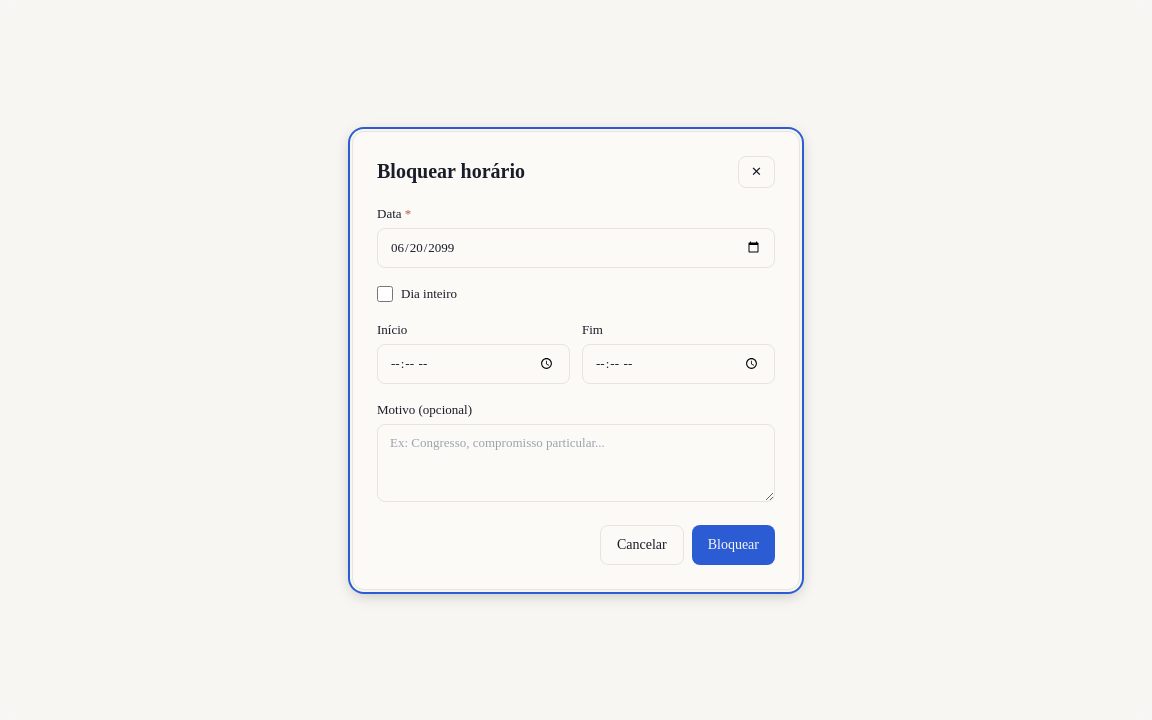
BlockTimeDialog (integration) › disables startTime and endTime when "Dia inteiro" is checked
The width and height of the screenshot is (1152, 720).
What coordinates should you click on to do the following:
click the checkbox with test id "block-dialog-all-day"
I would click on:
 (385, 294)
Its box is [377,286,393,302].
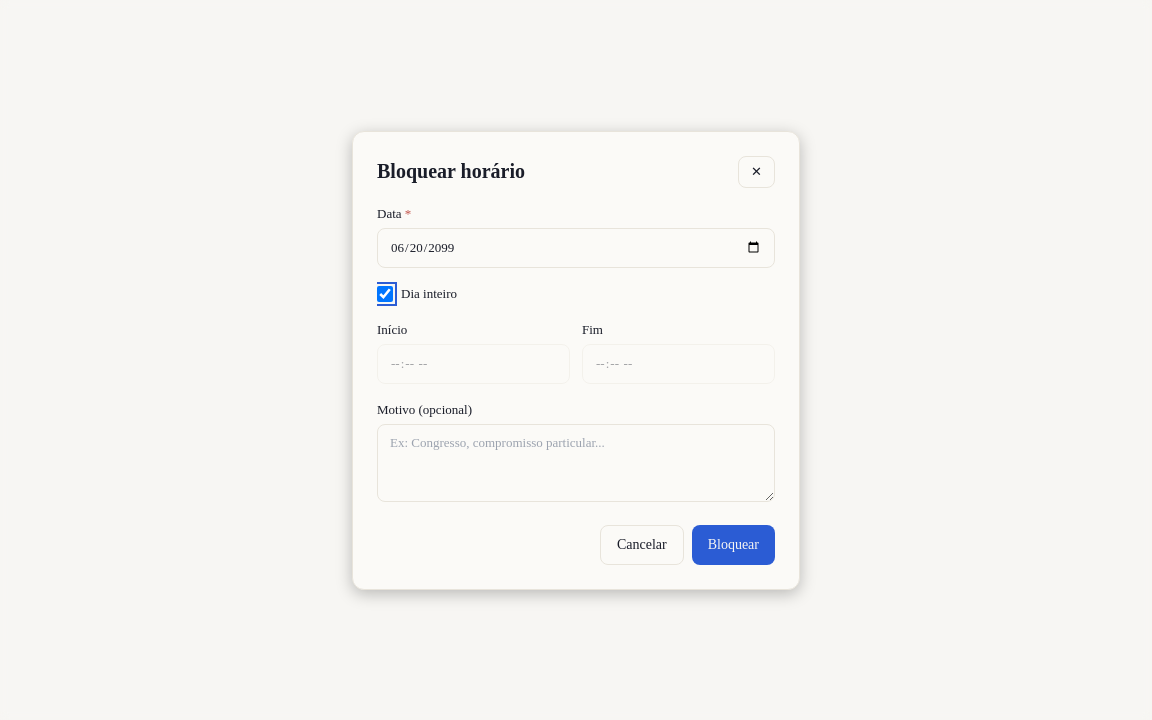
Now the time field with test id "block-dialog-start-time" is disabled, box [377,344,570,384]
Now the time field with test id "block-dialog-end-time" is disabled, box [582,344,775,384]
